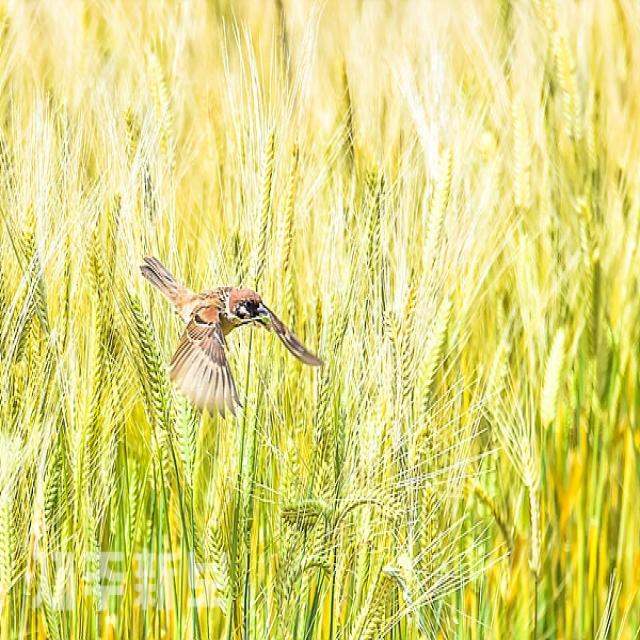bird: (139, 256, 327, 410)
